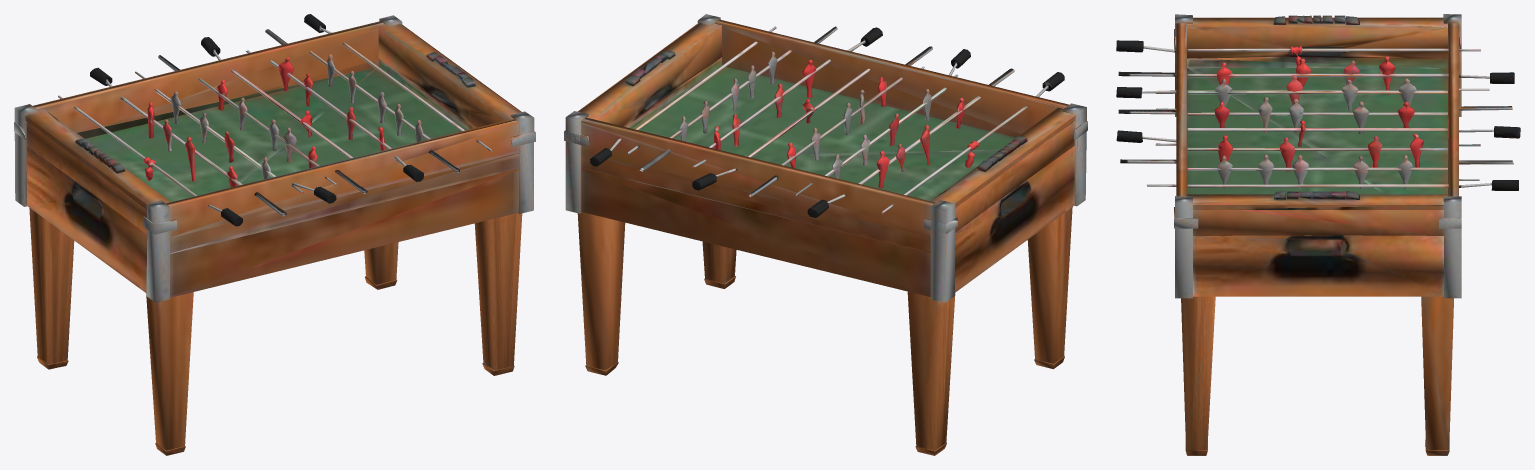
File: office-foosball-table.glb
The picture shows the model from 3 angles, left to right: view 1: azimuth 30°, elevation 25°; view 2: azimuth 150°, elevation 25°; view 3: azimuth 270°, elevation 25°; orthographic projection. The views are drawn at different scales.
Visible parts, largest first — view 1: foosball-table; view 2: foosball-table; view 3: foosball-table.
Part boxes in pixels (<box>): foosball-table: <box>14,14,535,455</box>; foosball-table: <box>564,14,1087,455</box>; foosball-table: <box>1116,14,1520,455</box>.
Size of the model in its own units: 1.4 by 0.9199 by 1.26.
Materials: 1 (1 with a texture image).
